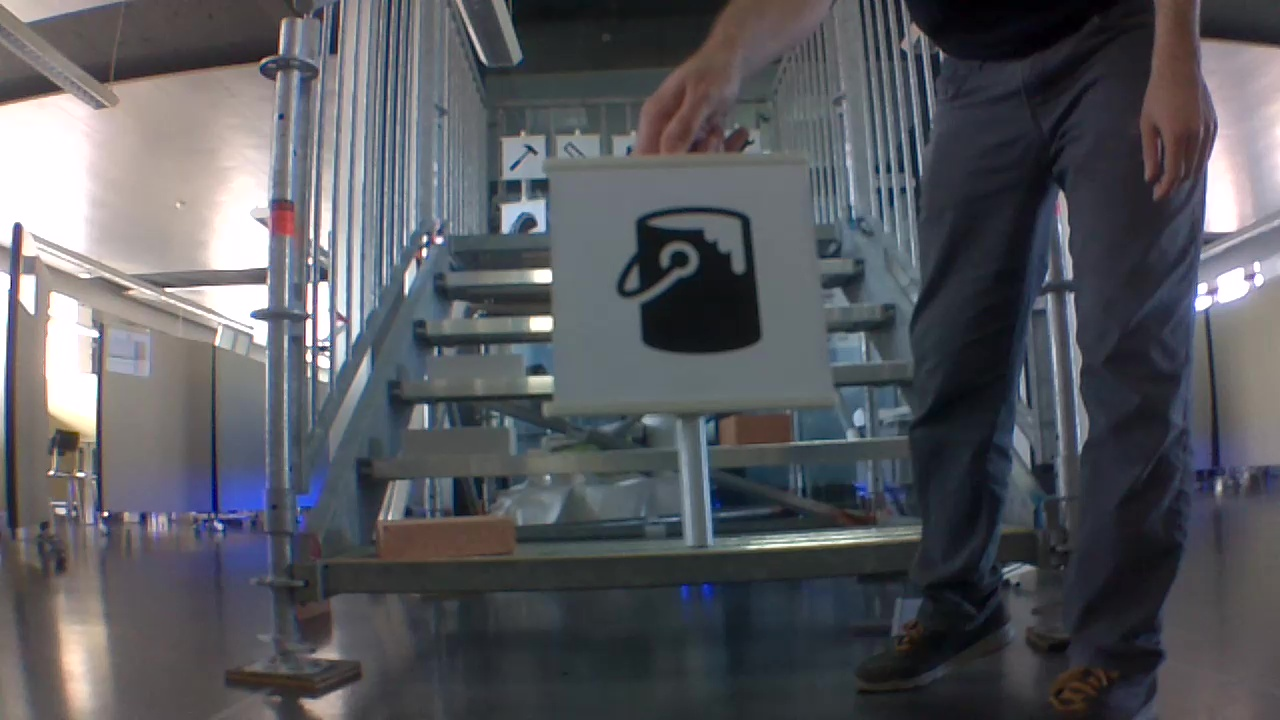brick: (378, 515, 512, 561), (400, 426, 513, 460), (427, 354, 524, 381), (718, 415, 792, 445)
bucket: (611, 193, 770, 365)
hammer: (506, 139, 539, 176)
taco: (500, 209, 543, 233)
